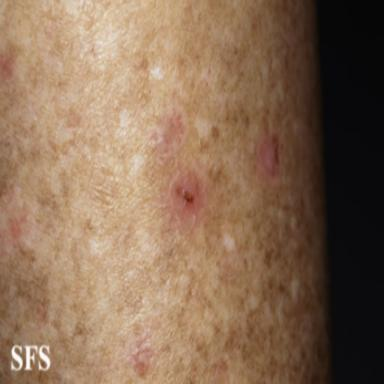Porokeratosis: (169, 171, 206, 230), (150, 108, 185, 157), (257, 132, 279, 180), (133, 347, 153, 376), (0, 50, 15, 81)
